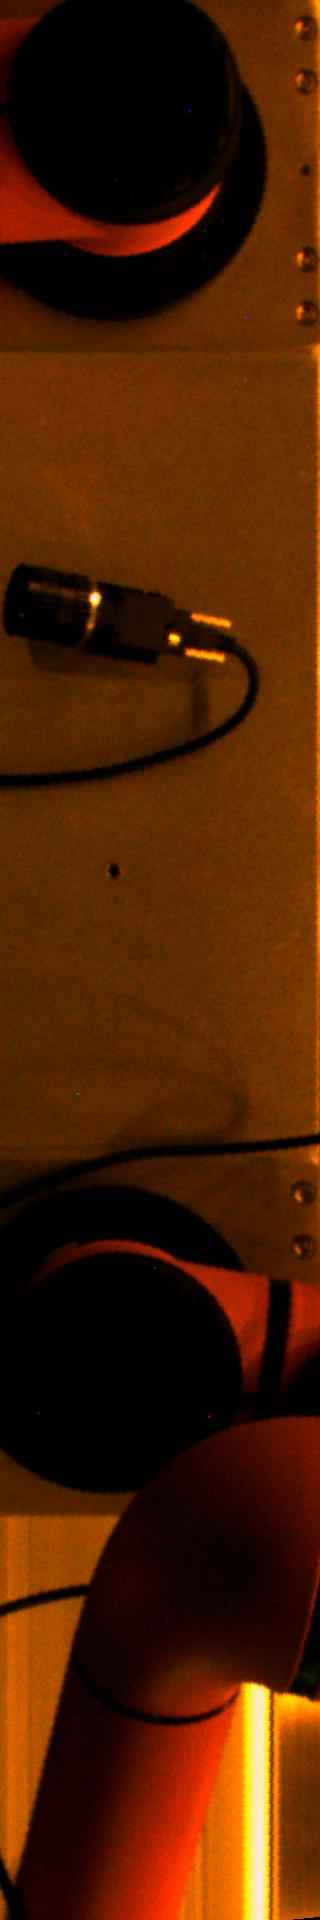keyPoint_2: (98, 856, 128, 887)
